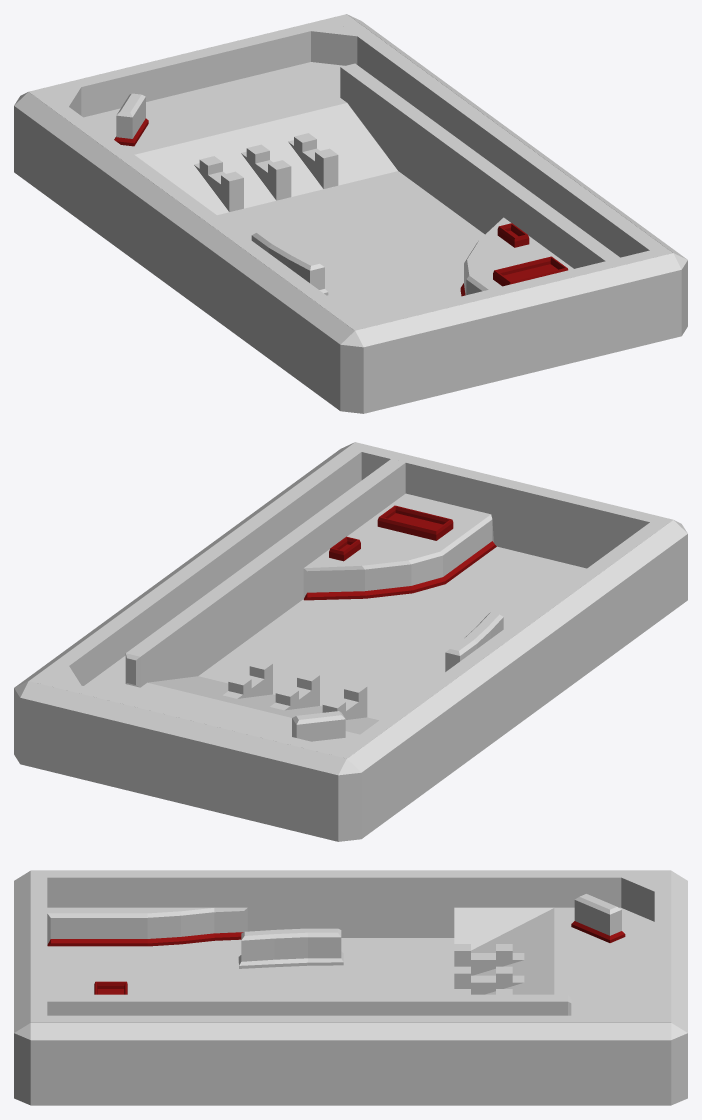
File: Pinball Machine 2.0.fbx
3 views of the same model, one above another, from view 1: azimuth 30°, elevation 25°; view 2: azimuth 150°, elevation 25°; view 3: azimuth 270°, elevation 25° (orthographic).
Visible parts, largest first — view 1: Box001, Box002, Box003; view 2: Box001, Box002, Box003; view 3: Box001, Box002, Box003.
Part boxes in pixels (x1,y1,x2,y2): Box001: (14,14,687,413); Box002: (52,24,619,295); Box003: (493,223,568,286); Box001: (14,442,687,841); Box002: (52,459,503,748); Box003: (329,505,453,561); Box001: (14,870,687,1105); Box002: (47,877,654,1015); Box003: (94,981,127,994).
Bounding box in the file's own units: 11.8 × 2.5 × 20.2.
